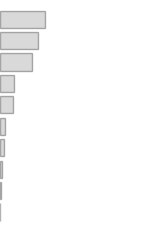

This screenshot's page, from the dashboard's own definition file:
{"tool":"powerbi","page":{"name":"VictimasMens","canvas":[450,280],"ordinal":7},"visuals":[{"type":"columnChart","title":"Victimas por Mes","fields":{"Category":["Ahomicidios_limpio (2).Mes"],"Y":["Sum(Ahomicidios_limpio (2).NumVictimas)"]},"box":[0,0,450,227.2],"z":0},{"type":"group","id":"g1","title":"Group 2","box":[329.3,219.6,100,60.9],"z":1000},{"type":"card","fields":{"Values":["Sum(Ahomicidios_limpio (2).NumVictimas)"]},"box":[333.1,219.6,92.4,59.8],"z":2000,"group":"g2"},{"type":"textbox","box":[96.7,234.8,209.8,129.3],"z":2000},{"type":"shape","box":[329.3,220.7,100,59.8],"z":17000,"group":"g1"},{"type":"group","id":"g2","title":"Group 1","box":[333.1,219.6,92.4,59.8],"z":18000,"group":"g1"}]}

Visuals, with their boxes on the page's 450x280 design canvas (x1, y1, x2, y2). These are canvas units, not pixel positions in the 155x231 screenshot, which may show the page scaled, cropped or inside an application window:
"Victimas por Mes" columnChart: region(0, 0, 450, 227)
"Group 2" group: region(329, 220, 429, 280)
card - Sum(Ahomicidios_limpio (2).NumVictimas): region(333, 220, 426, 279)
textbox: region(97, 235, 306, 364)
shape: region(329, 221, 429, 280)
"Group 1" group: region(333, 220, 426, 279)
